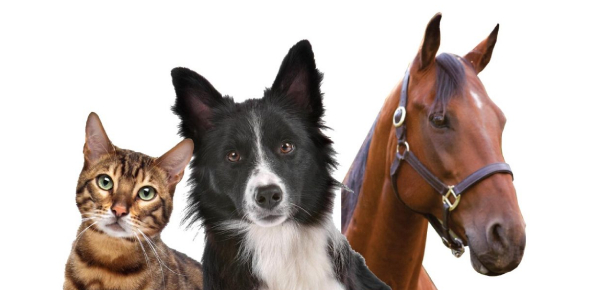Cat: (63, 103, 199, 290)
Dog: (170, 32, 385, 290)
Horse: (345, 11, 543, 290)
